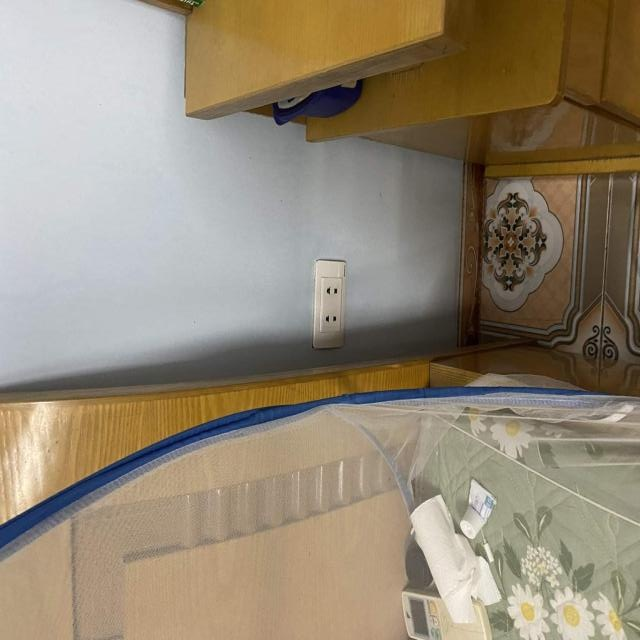outlet: (312, 260, 346, 350)
